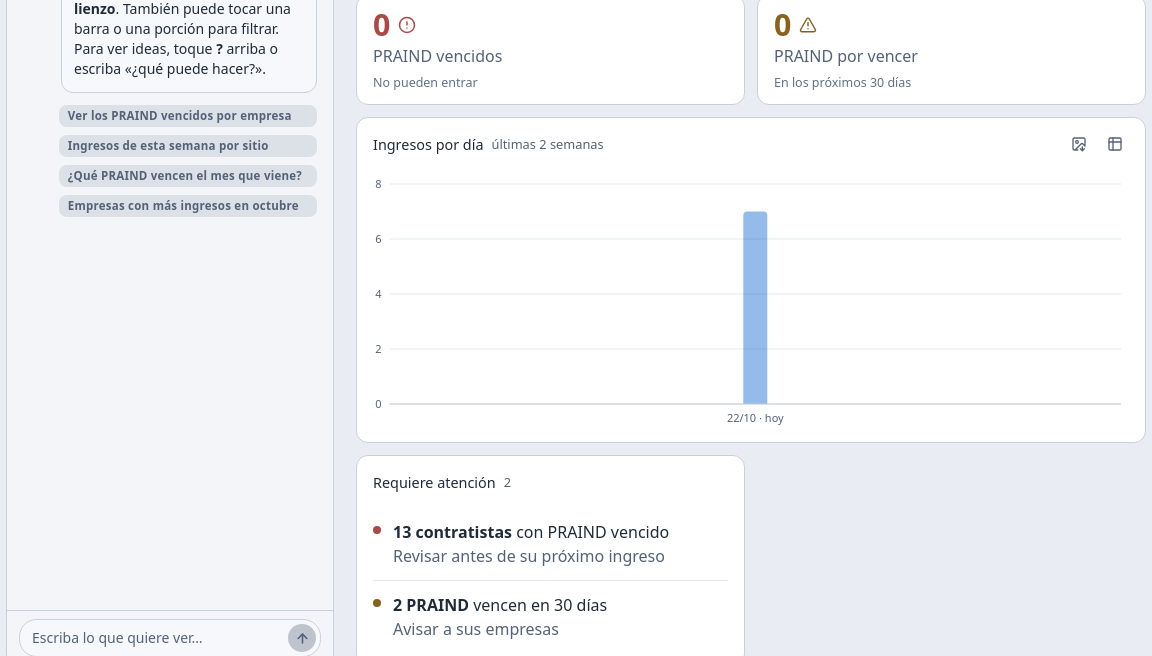
Test: Asistente › chat: muestra las consultas de hoy contra el tope y se actualiza después de cada pedido
(page scrolled)
Type "hola" into the text box named "Mensaje para el asistente" at coordinates (156, 638), box x1=32 y1=624 x2=280 y2=652
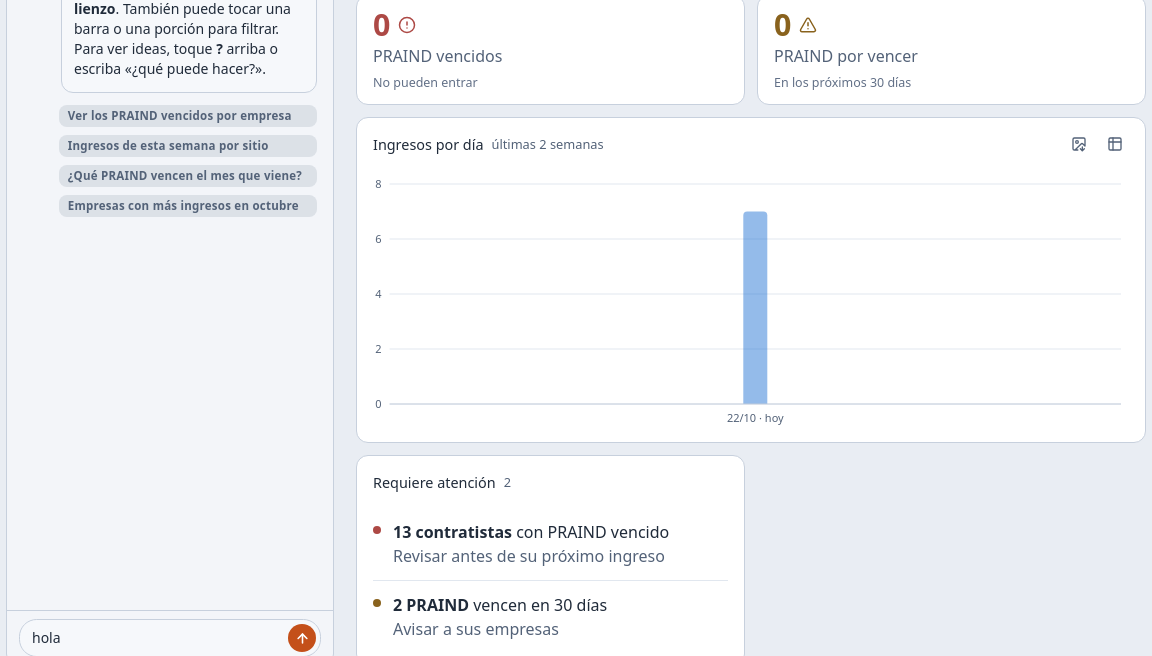
Click the button named "Enviar" at coordinates (302, 638), box x1=288 y1=624 x2=316 y2=652
(page scrolled)
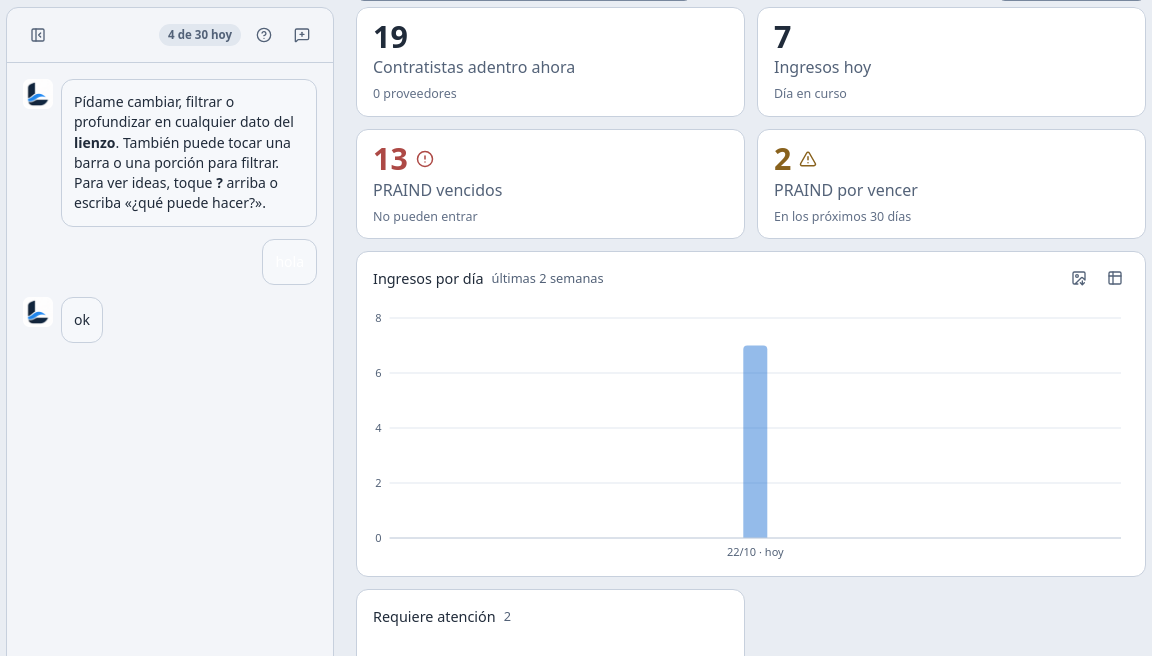
Result: the text "4 de 30 hoy" is shown at x1=159 y1=24 x2=241 y2=46
